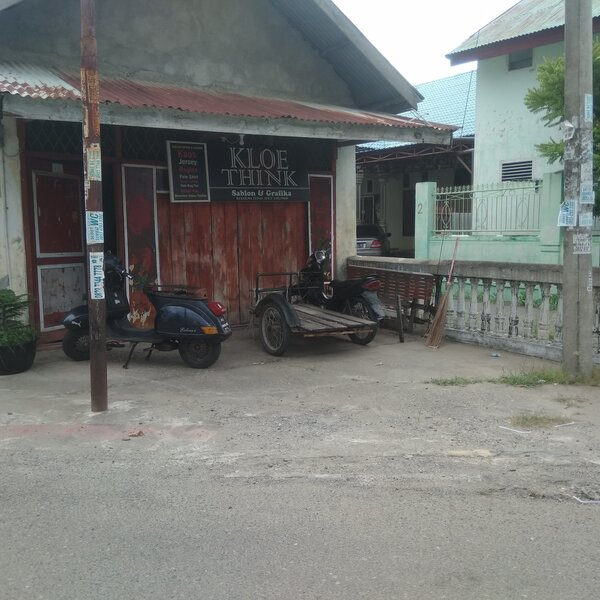becak barang: (245, 237, 394, 363)
